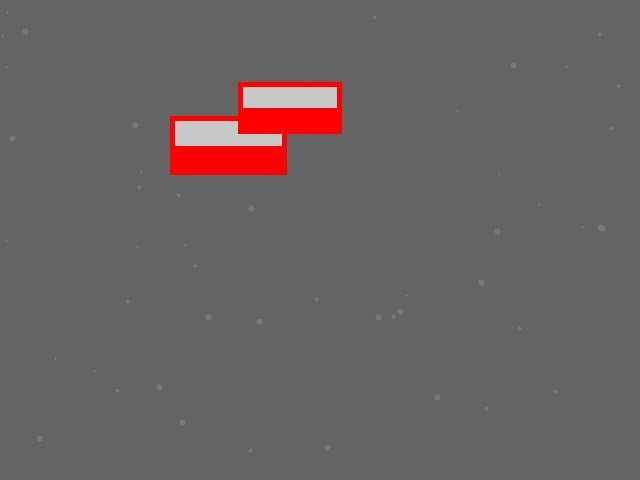car: (170, 116, 286, 174), (238, 82, 341, 133)
